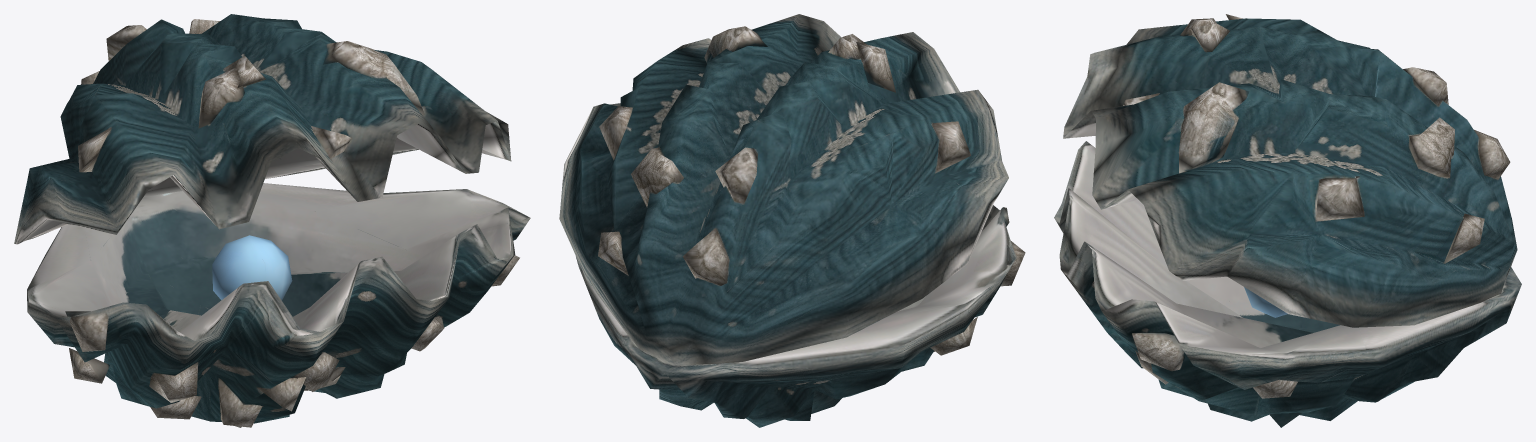
The model's file is nature-blue-giant-clam.glb.
The picture shows the model from 3 angles, left to right: view 1: azimuth 30°, elevation 25°; view 2: azimuth 150°, elevation 25°; view 3: azimuth 270°, elevation 25°; orthographic projection. The views are drawn at different scales.
Bounding box in the file's own units: 1 × 0.8269 × 0.9516.
1 material, 1 textured.
